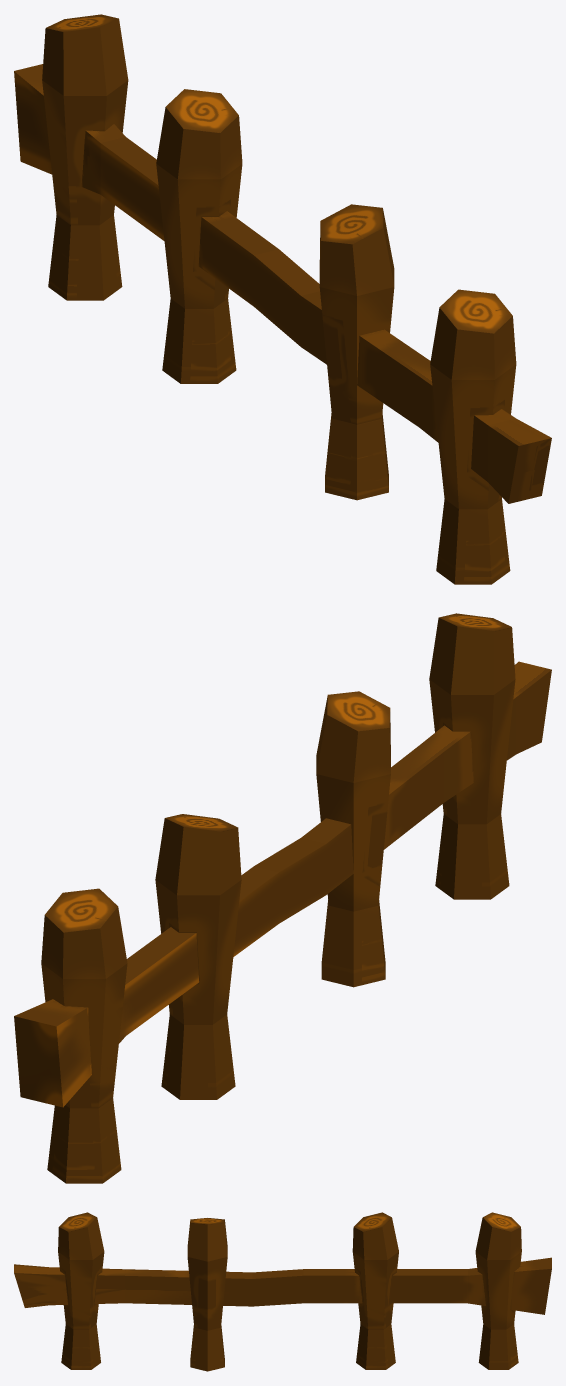
Rendered from Gate.fbx.
3 renders of one model, top to bottom at view 1: azimuth 30°, elevation 25°; view 2: azimuth 150°, elevation 25°; view 3: azimuth 270°, elevation 25°, orthographic. The views are drawn at different scales.
Visible parts, largest first — view 1: Cube; view 2: Cube; view 3: Cube.
Part boxes in pixels (box(x1,y1,x2,y2)): Cube: box(14, 14, 551, 584); Cube: box(14, 613, 551, 1183); Cube: box(14, 1212, 551, 1371).
Size of the model in its own units: 54.19 by 188 by 628.
